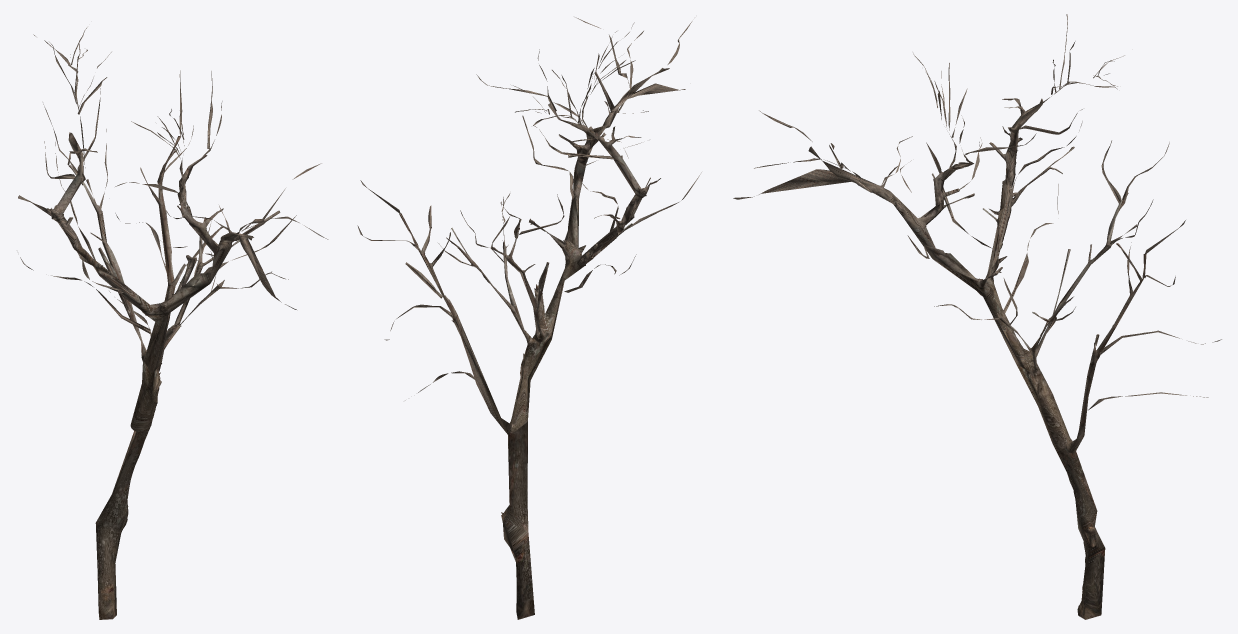
The model's file is arbolpeq_L0_madera.glb.
3 renders of one model, left to right at view 1: azimuth 30°, elevation 25°; view 2: azimuth 150°, elevation 25°; view 3: azimuth 270°, elevation 25°, orthographic. The views are drawn at different scales.
Parts seen in each view (by area): view 1: tree_small_02_LOD0; view 2: tree_small_02_LOD0; view 3: tree_small_02_LOD0.
Boxes of the visible parts, x1=… form: tree_small_02_LOD0: x1=18, y1=27, x2=328, y2=619; tree_small_02_LOD0: x1=357, y1=17, x2=701, y2=619; tree_small_02_LOD0: x1=733, y1=14, x2=1221, y2=619.
Size of the model in its own units: 1.82 by 4.29 by 3.36.
Materials: 2 (2 with a texture image).
